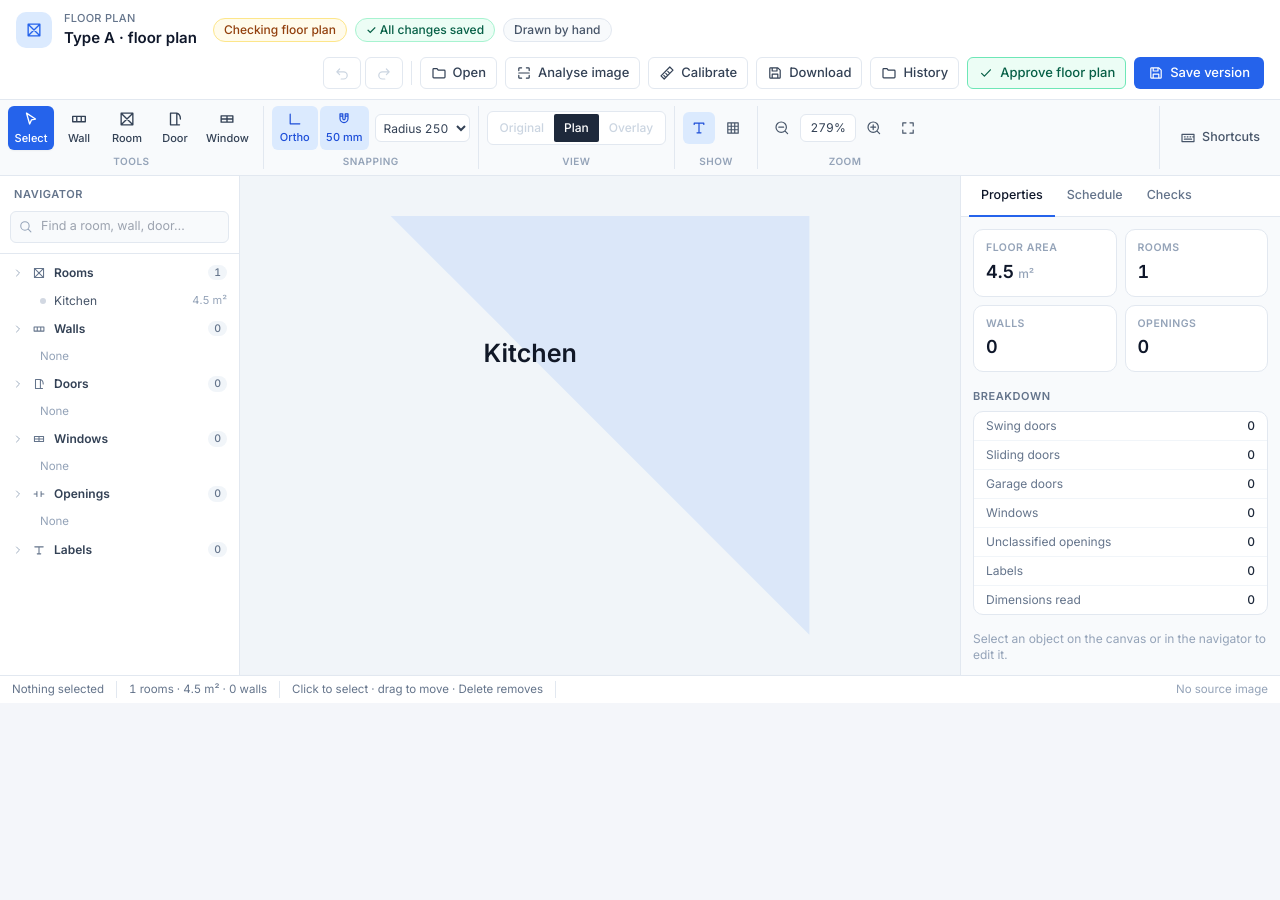
Test case: HouseFloorPlanEditor › saves a version with a note, from the draft as last saved
The width and height of the screenshot is (1280, 900).
Click the button "Save version" at (1199, 73), box x1=1134 y1=57 x2=1264 y2=89
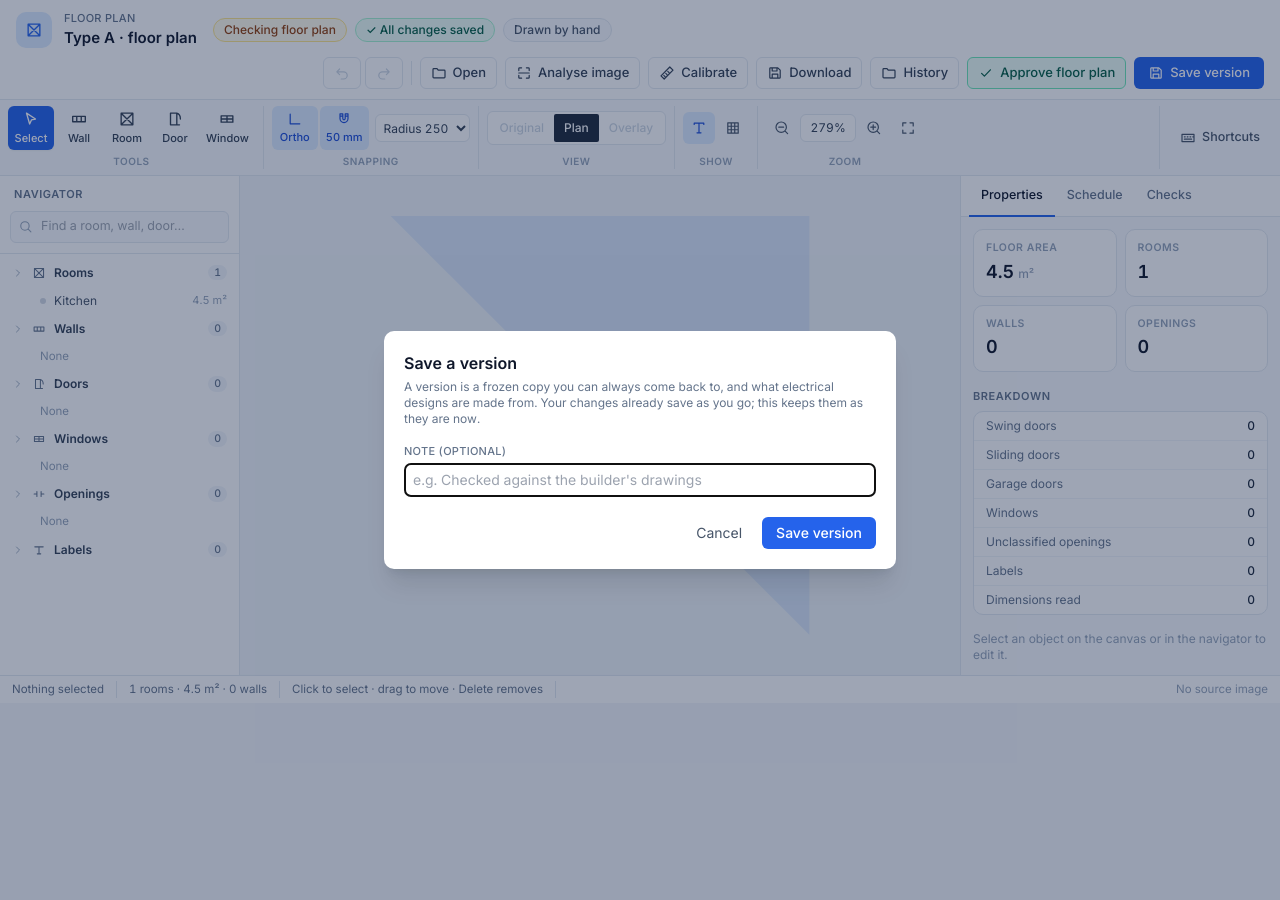
Type "Checked" into the field at (640, 480), box x1=404 y1=463 x2=876 y2=497
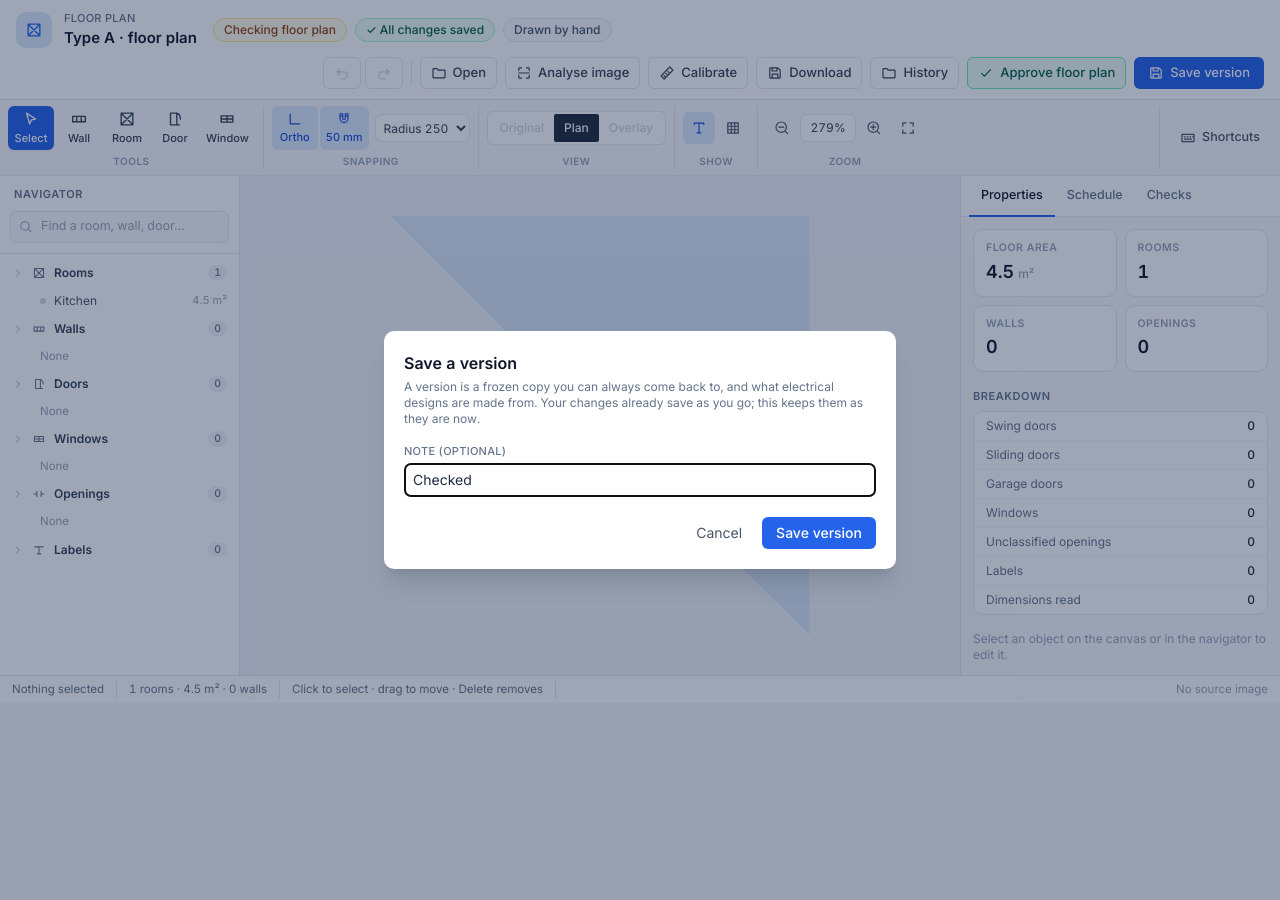
Click the button "Save version" at (819, 533), box x1=762 y1=517 x2=876 y2=549
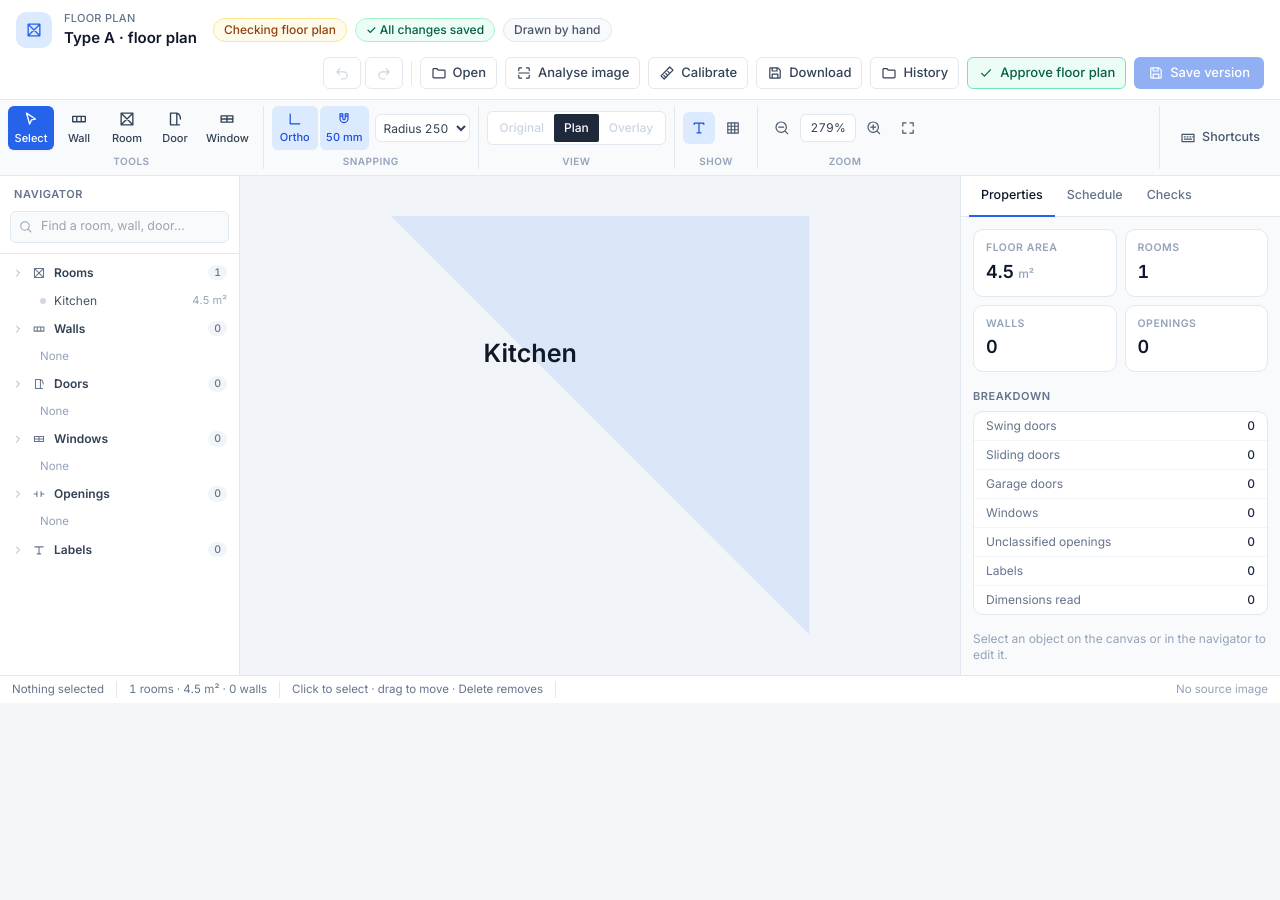
Now the dialog is gone
Now the button "Save version" is disabled, box x1=1134 y1=57 x2=1264 y2=89
